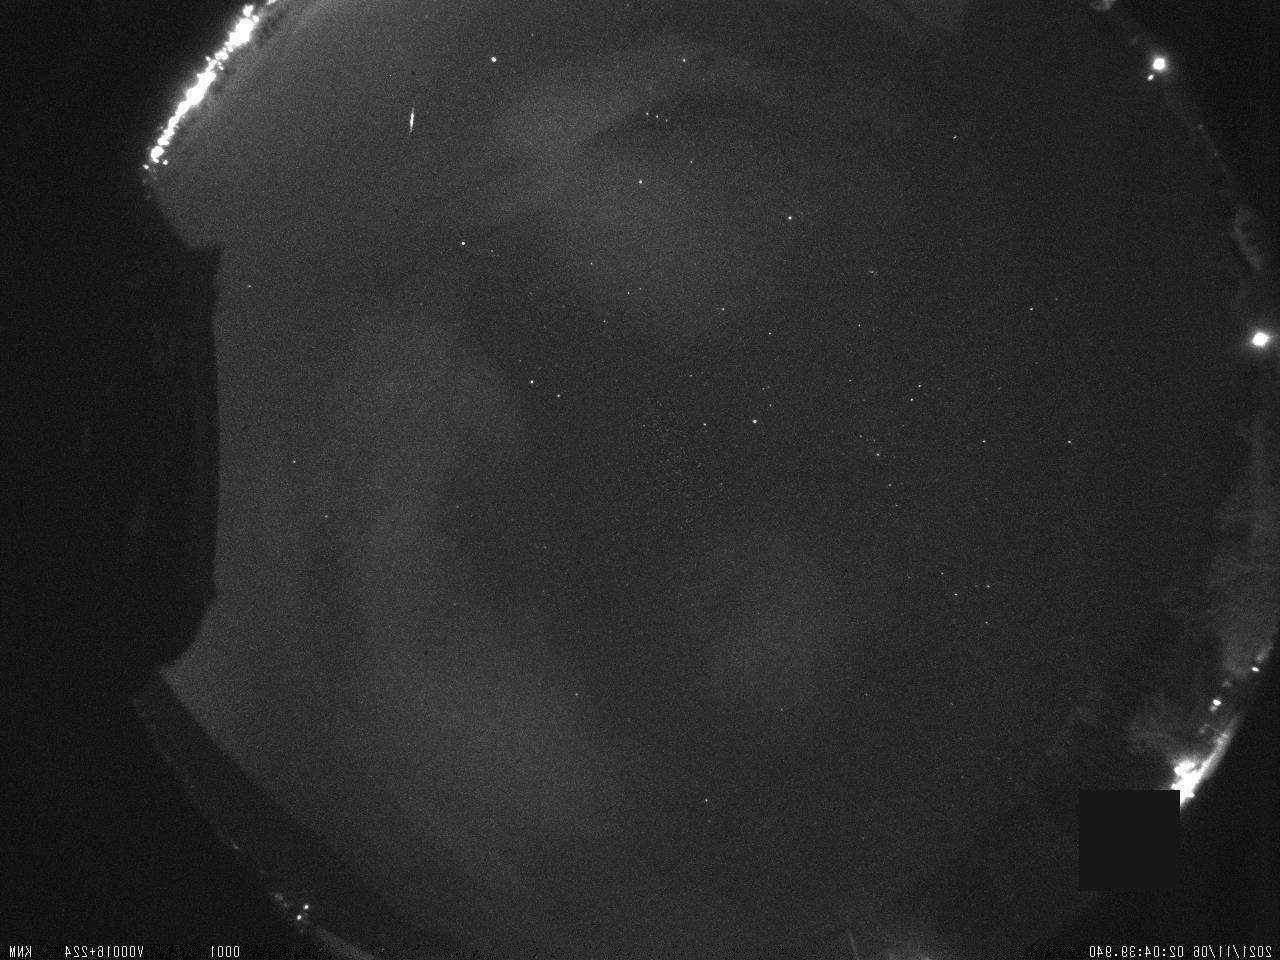meteor: (400, 90, 425, 144)
